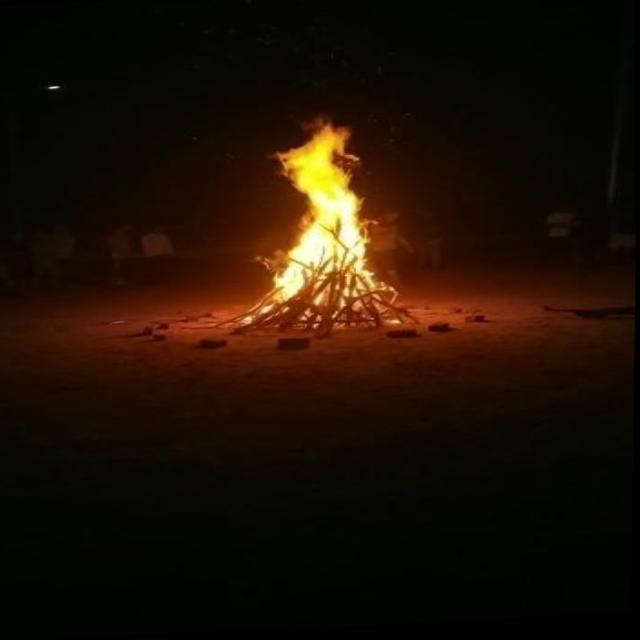fire: (237, 100, 413, 322)
